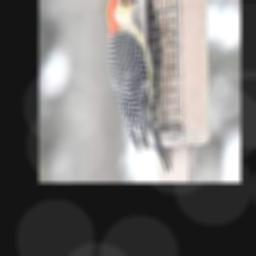Woodpecker: (108, 0, 171, 173)
